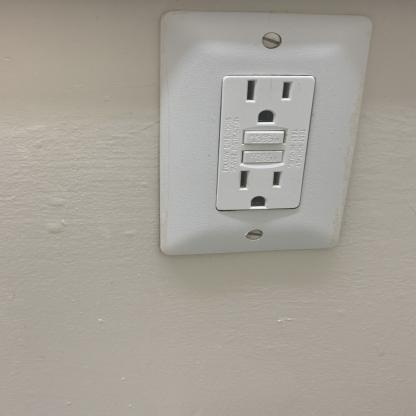OUTLET: (160, 11, 348, 252)
